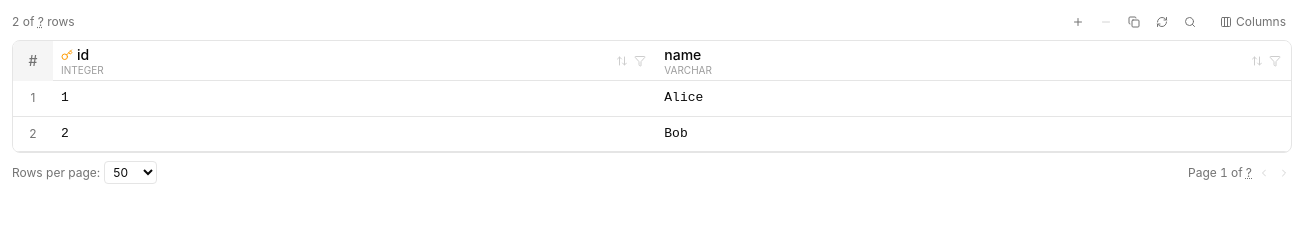
Scenario: DataTable › submit changes › handleSubmit shows mutationError on failure
The image size is (1304, 251).
Select and delete a row to create a change
Click the 1st cell titled "Click to select".
click(33, 99)  # box [13,81,53,116]
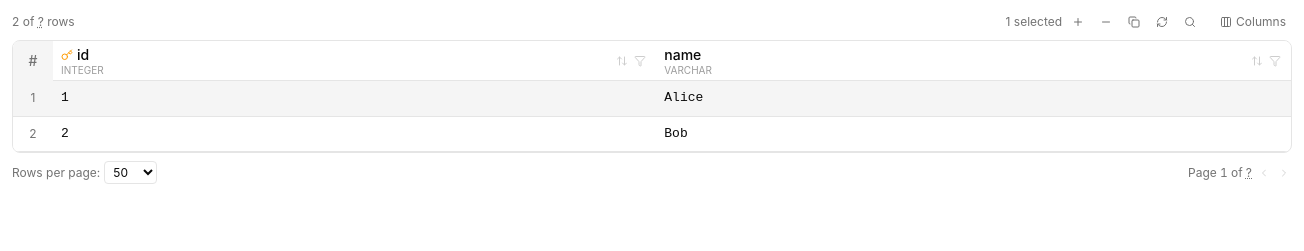
Click the button titled "Mark 1 row(s) for deletion".
click(1106, 22)  # box [1094,14,1118,30]
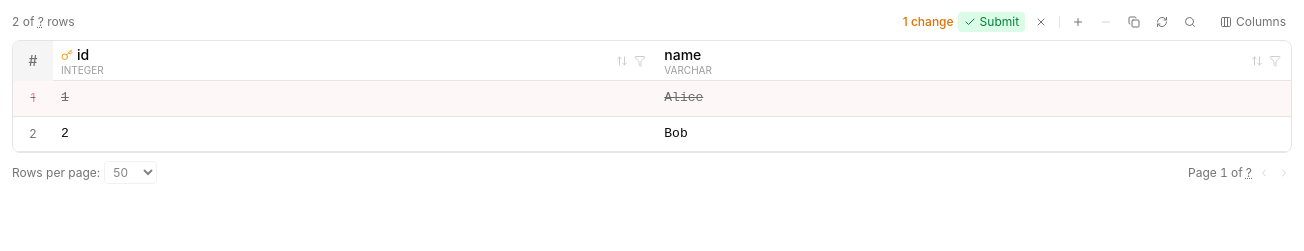
Click the button titled "Submit all changes".
click(991, 22)  # box [958,12,1025,32]
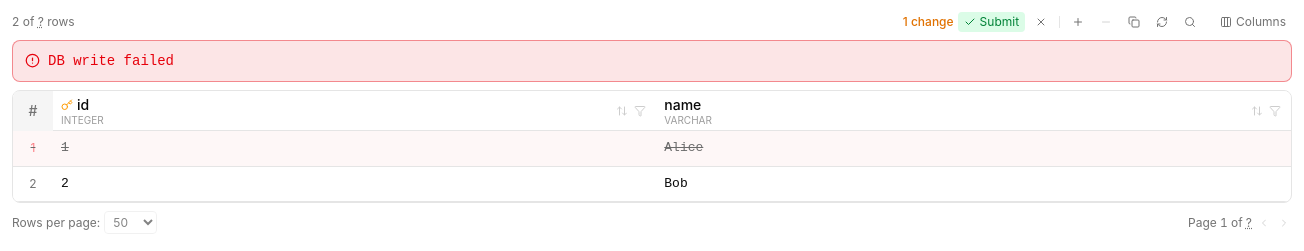
Now the text "DB write failed" is shown, box [48,53,174,69]
